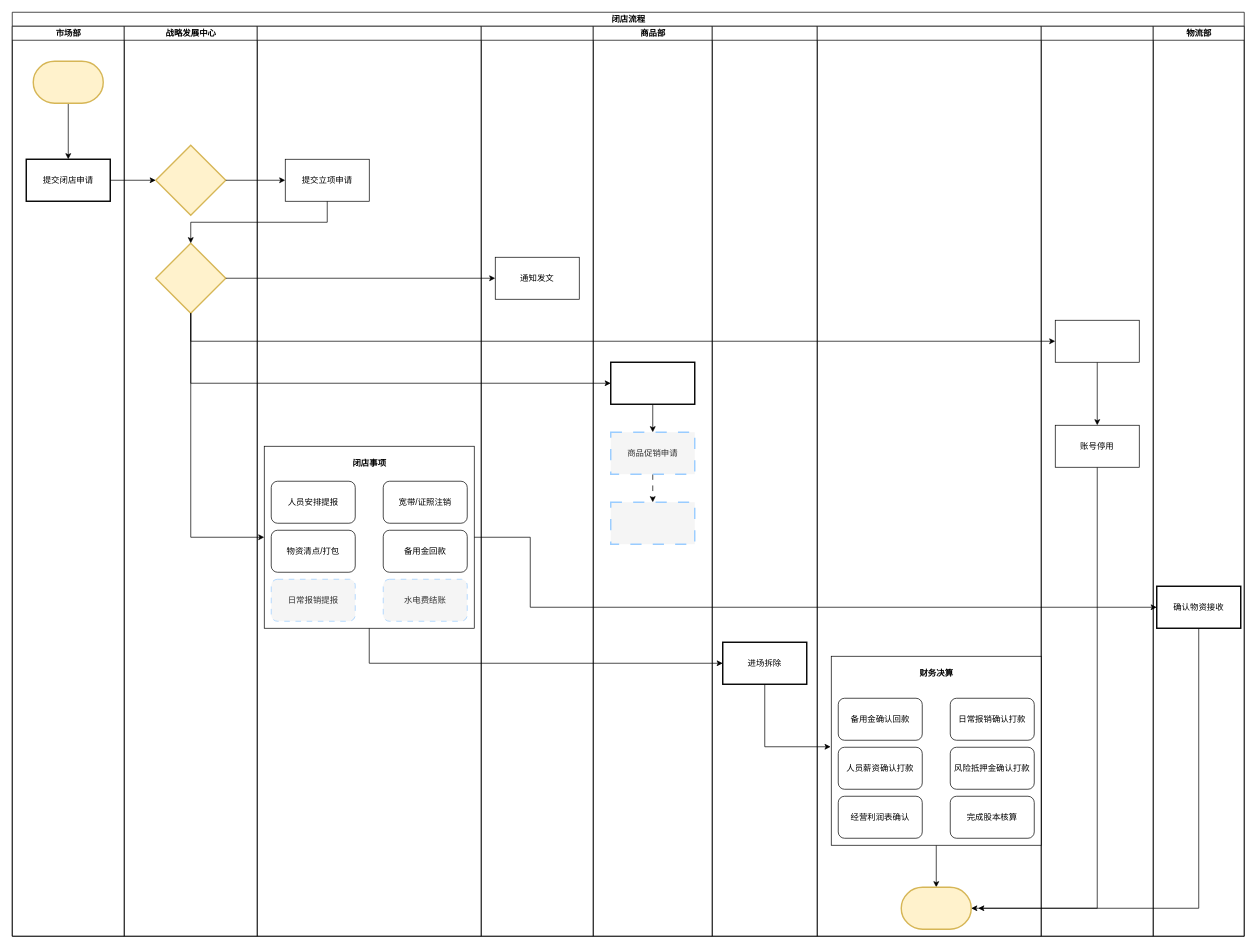
Image size: 1257x949. Some labels were removed from this diagram. The shapes that lost their labels are listed below. From the top down, each one's box as (x1, y1, x2, y2) in pixels, then its label:
(32, 60, 104, 104): 开始
(155, 144, 226, 216): 闭店审核
(155, 242, 226, 314): 立项审批
(1055, 320, 1139, 362): 指令变更
(610, 361, 695, 405): 商品停发
(257, 26, 481, 936): 销售部
(481, 26, 593, 936): 人事部
(712, 26, 817, 936): 工程部
(817, 26, 1041, 936): 财务部
(1041, 26, 1153, 936): 信息部
(610, 501, 695, 545): 商品调拨申请
(900, 886, 972, 930): 结束
